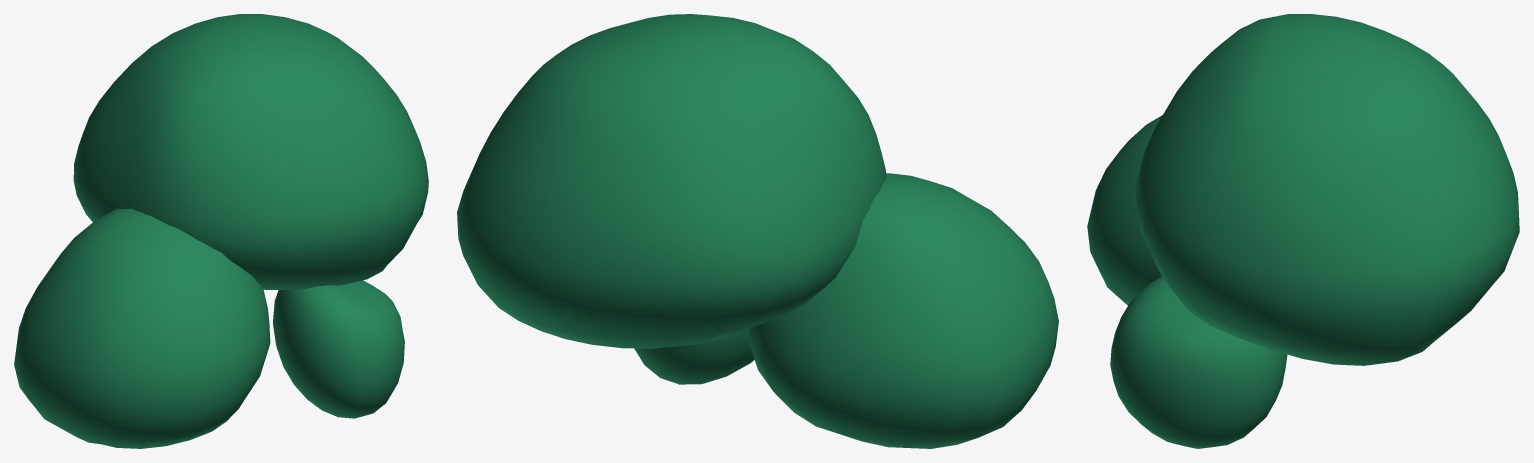
The model's file is Tree_Top_A_03.fbx.
3 views of the same model, side by side, from view 1: azimuth 30°, elevation 25°; view 2: azimuth 150°, elevation 25°; view 3: azimuth 270°, elevation 25° (orthographic). The views are drawn at different scales.
Visible parts, largest first — view 1: Tree_Top_A_03_LOD0; view 2: Tree_Top_A_03_LOD0; view 3: Tree_Top_A_03_LOD0.
Part boxes in pixels (x1,y1,x2,y2): Tree_Top_A_03_LOD0: (14, 14, 428, 448); Tree_Top_A_03_LOD0: (457, 14, 1058, 448); Tree_Top_A_03_LOD0: (1087, 14, 1519, 448).
Size of what is drawn, in the model's own units: 1001 by 797 by 817.
